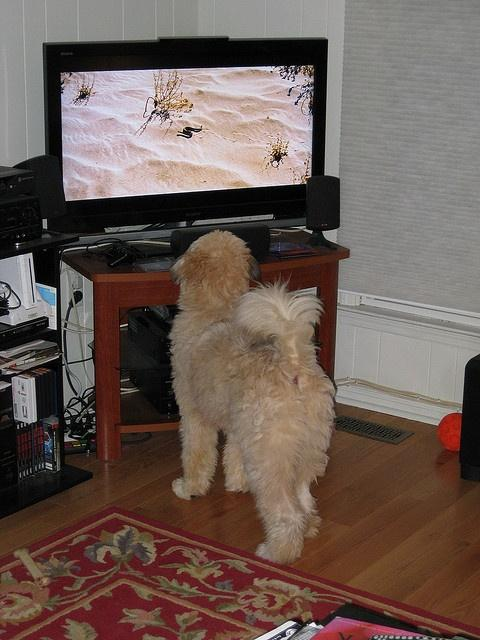AIO PC-Monitor-TV: (43, 36, 329, 243)
